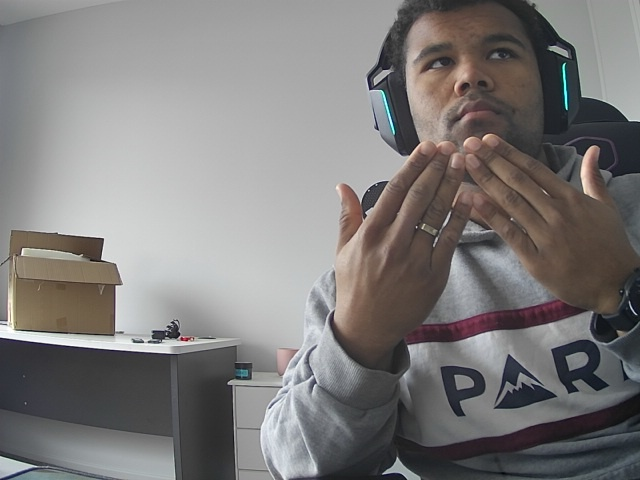ThankYou: (264, 125, 640, 365)
